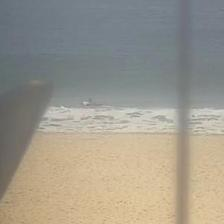surfer: (82, 98, 103, 107)
